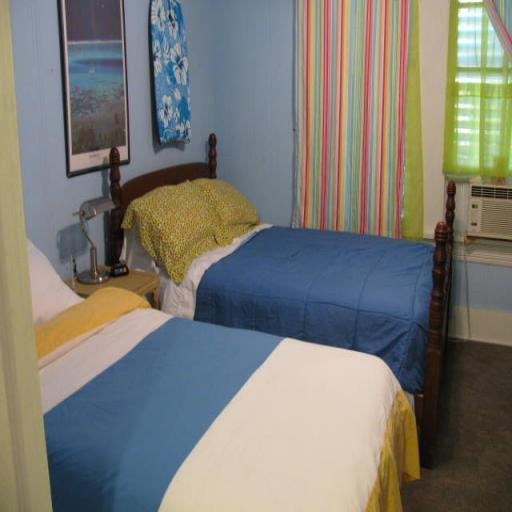bed: (34, 260, 412, 512)
